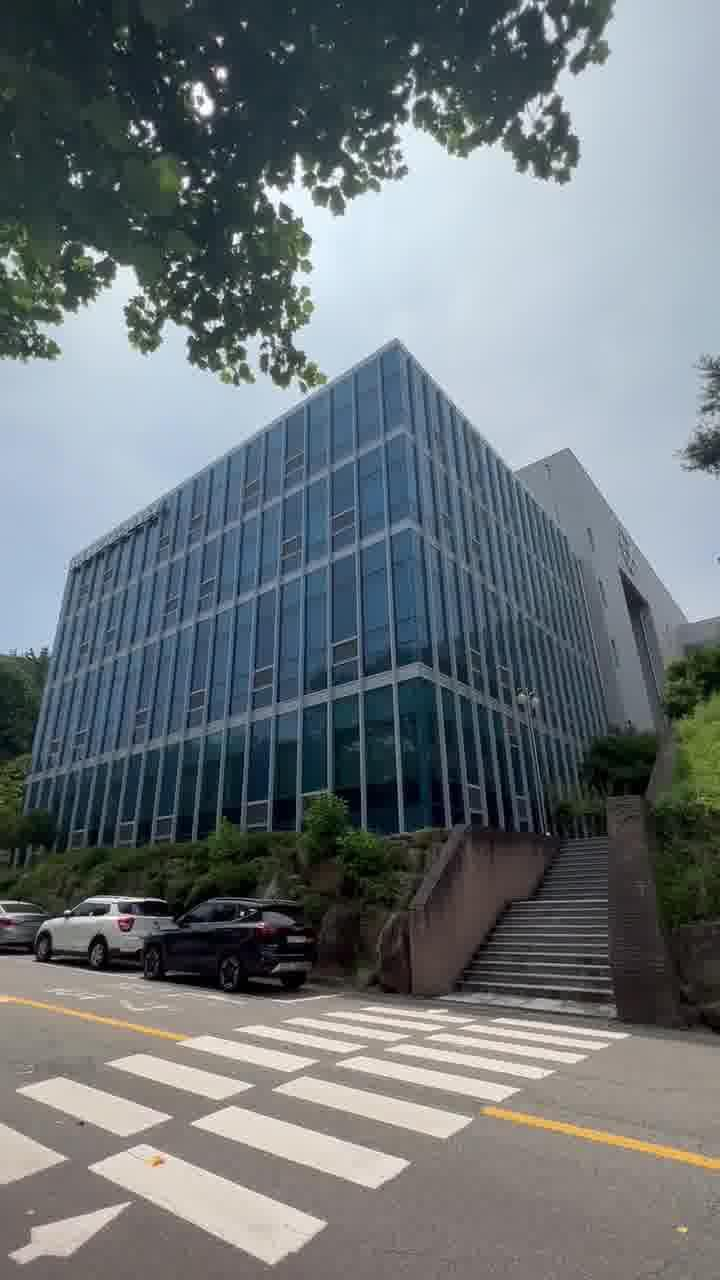building: (0, 330, 660, 852)
